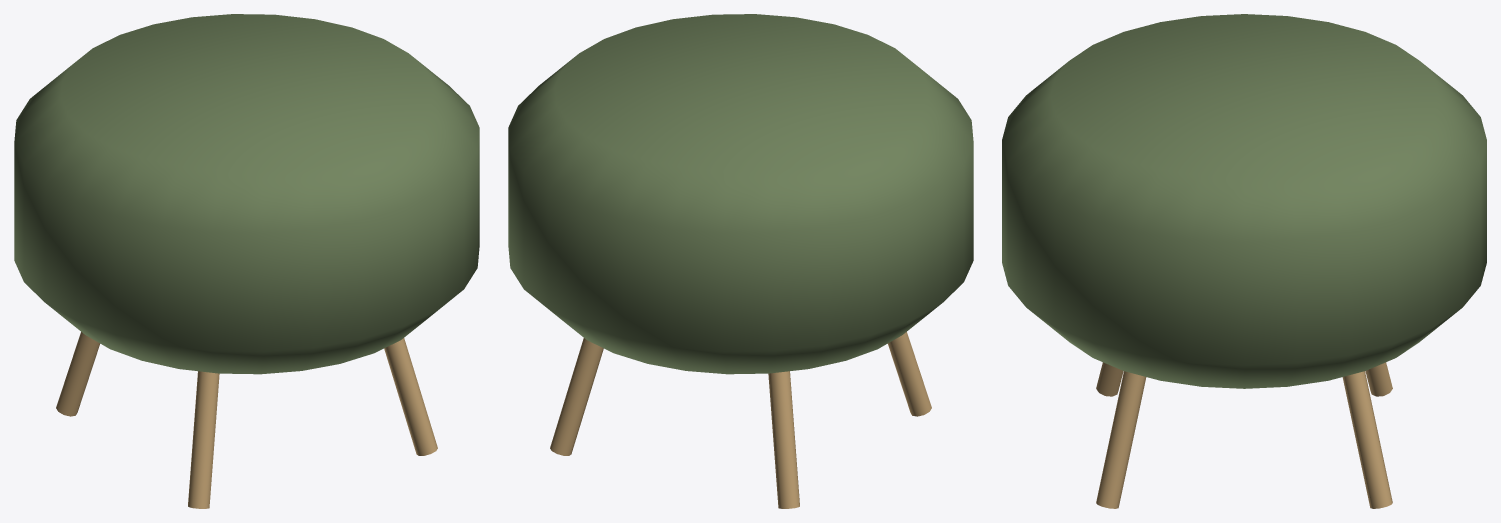
Rendered from i_pouf_2.glb.
3 renders of one model, left to right at view 1: azimuth 30°, elevation 25°; view 2: azimuth 150°, elevation 25°; view 3: azimuth 270°, elevation 25°, orthographic. The views are drawn at different scales.
Visible parts, largest first — view 1: o, o.003, o.004, o.002; view 2: o, o.002, o.001, o.003; view 3: o, o.001, o.004, o.003, o.002.
Part boxes in pixels (<box>): o: <box>14,14,479,374</box>; o.003: <box>188,371,219,508</box>; o.004: <box>384,338,437,455</box>; o.002: <box>56,332,99,416</box>; o: <box>508,14,973,374</box>; o.002: <box>768,371,799,508</box>; o.001: <box>550,338,603,455</box>; o.003: <box>888,332,931,416</box>; o: <box>1002,14,1486,388</box>; o.001: <box>1342,371,1392,508</box>; o.004: <box>1096,371,1146,508</box>; o.003: <box>1096,362,1123,396</box>; o.002: <box>1365,362,1392,396</box>.
Size of the model in its own units: 0.5 by 0.4033 by 0.5.
